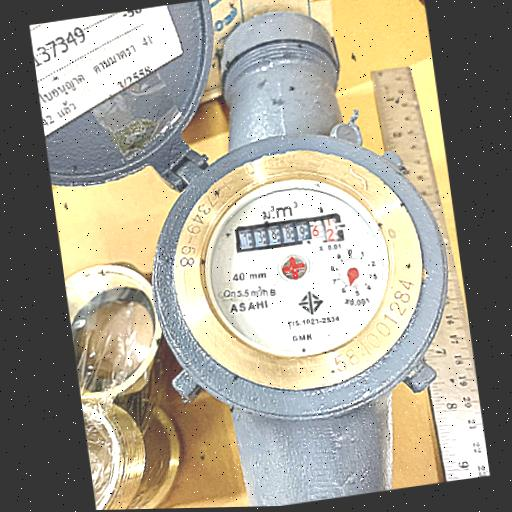1: (239, 229, 253, 249)
2: (324, 218, 337, 241)
3: (254, 227, 268, 246)
6: (310, 220, 323, 238)
8: (281, 224, 296, 243), (267, 225, 281, 245)
9: (296, 221, 309, 240)
border_water_meter_number: (234, 211, 346, 256)
